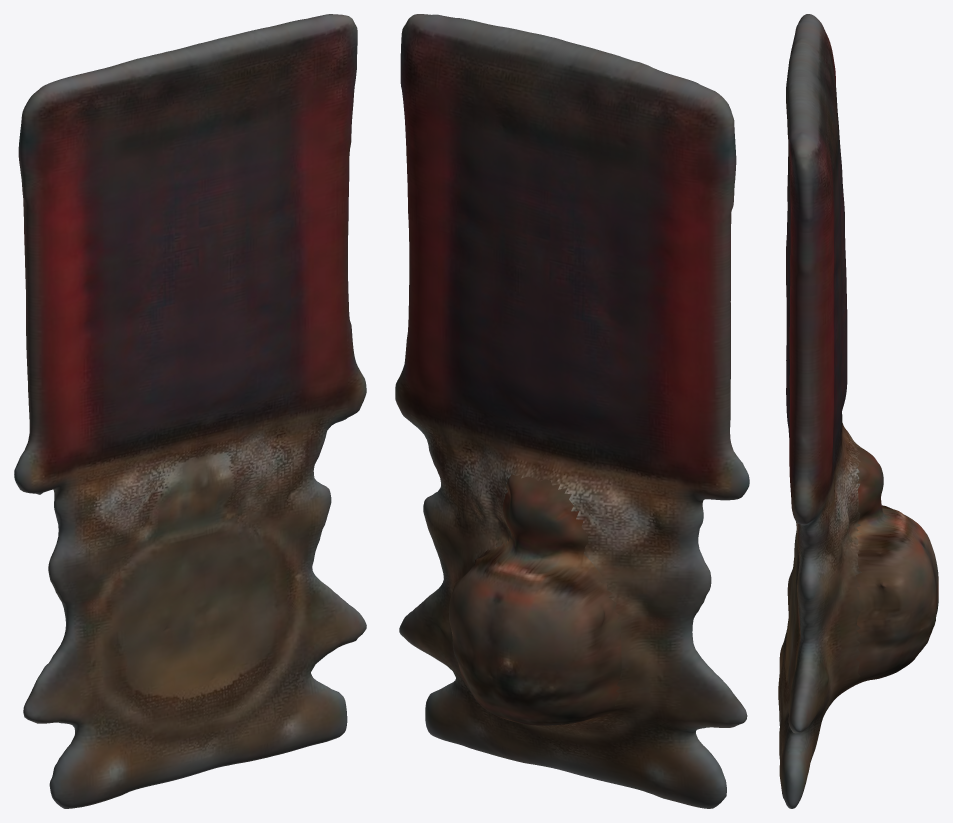
The model's file is kfl-2274.glb.
3 views of the same model, side by side, from view 1: azimuth 30°, elevation 25°; view 2: azimuth 150°, elevation 25°; view 3: azimuth 270°, elevation 25° (orthographic). The views are drawn at different scales.
Visible parts, largest first — view 1: geometry_0; view 2: geometry_0; view 3: geometry_0.
Part boxes in pixels (x1,y1,x2,y2): geometry_0: [14, 14, 366, 808]; geometry_0: [395, 14, 749, 808]; geometry_0: [778, 14, 938, 808].
Size of the model in its own units: 0.4987 by 0.992 by 0.2122.
Materials: 1 (1 with a texture image).
